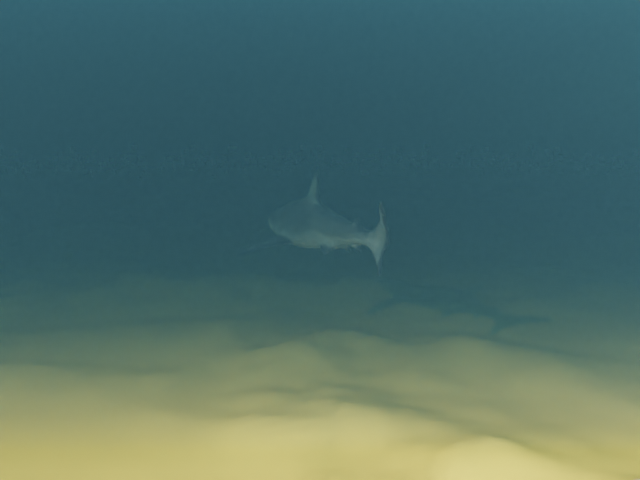Carribean Shark.001: (237, 171, 389, 276)
